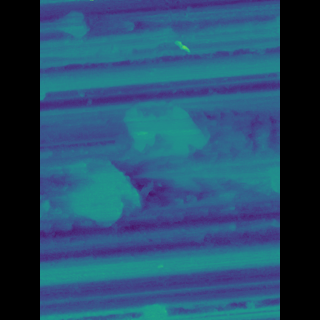Loch: (125, 106, 249, 163), (87, 150, 149, 230)
